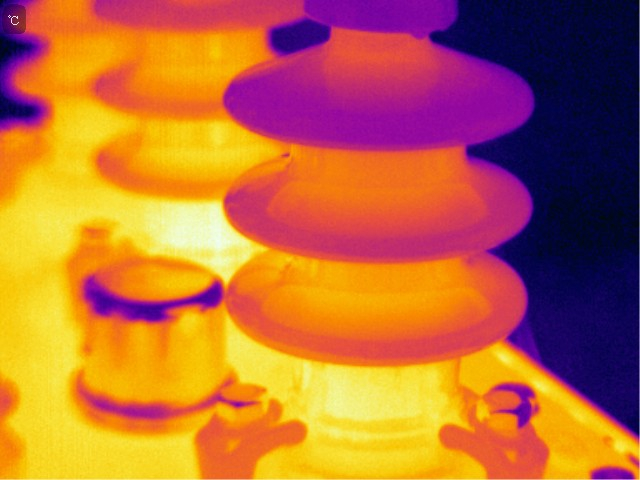Oil: (409, 28, 428, 42)
